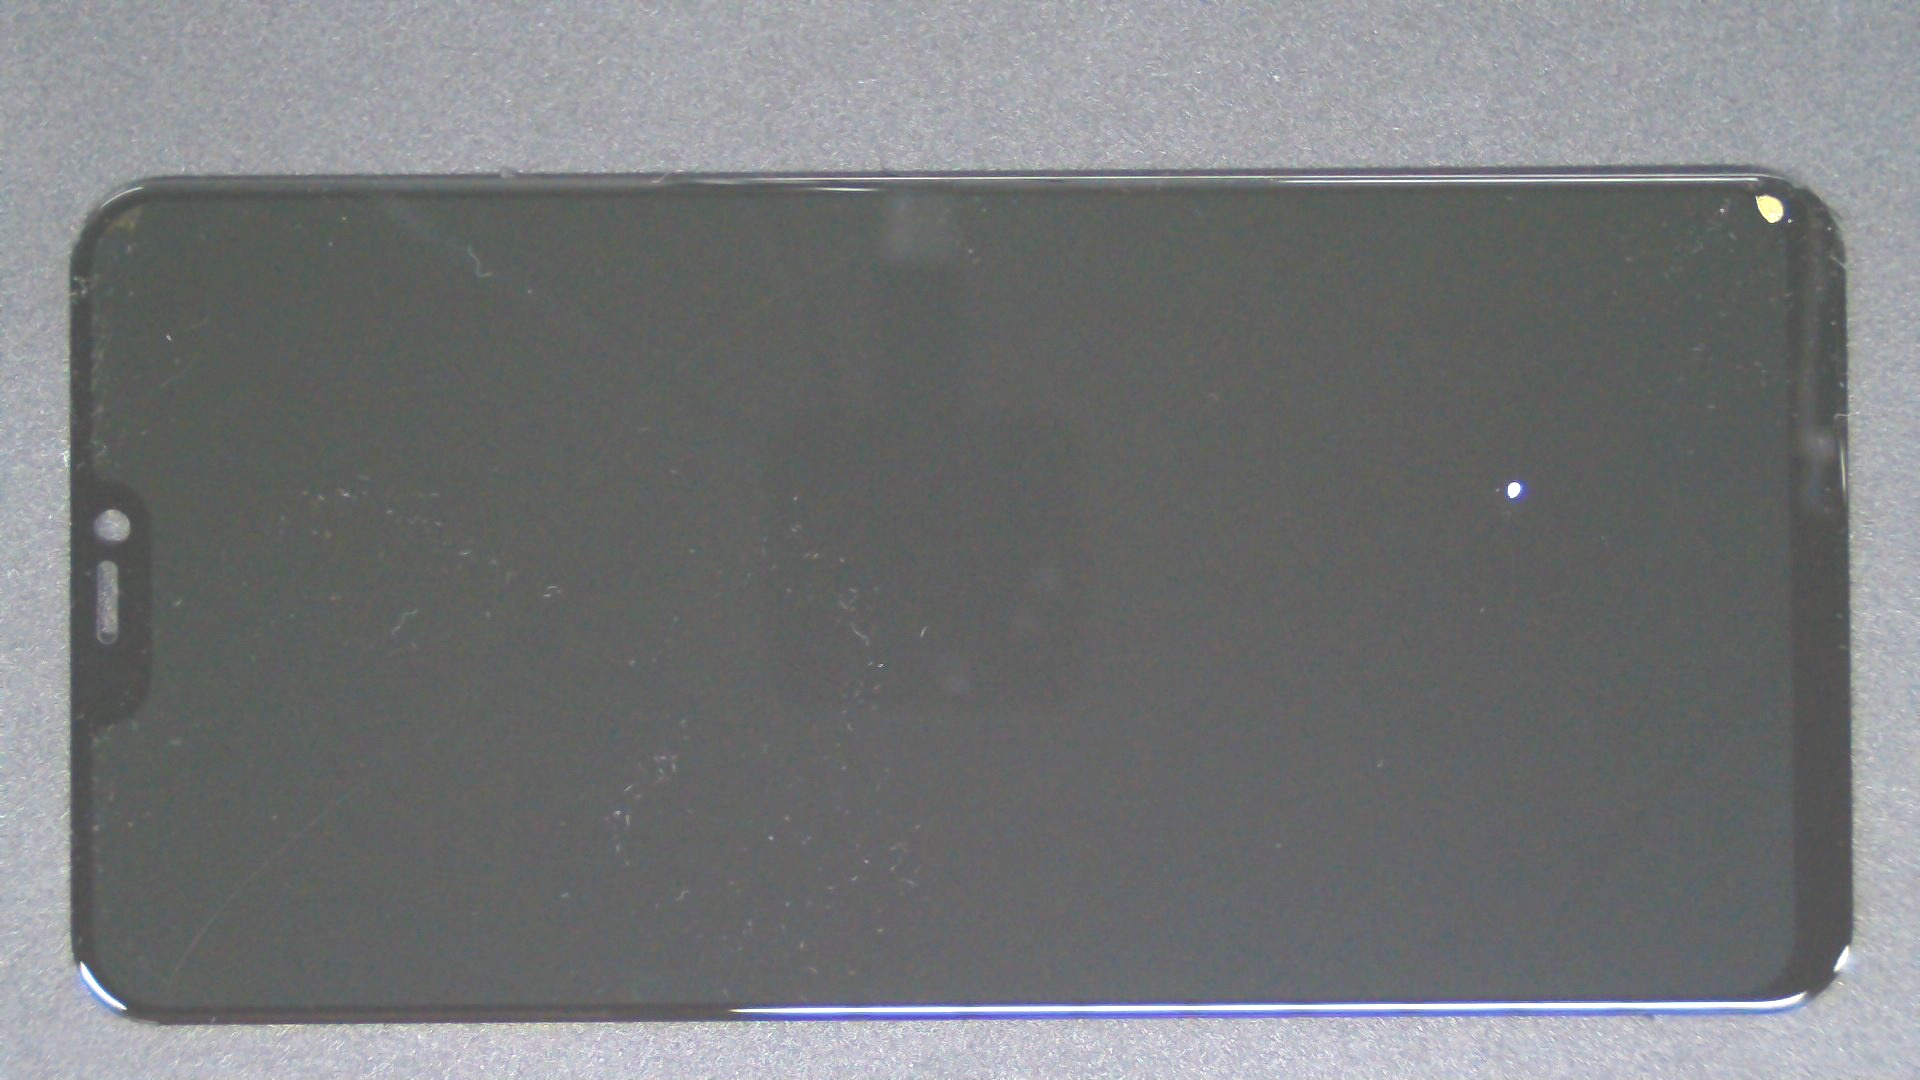oil: (758, 240, 1920, 720), (884, 95, 1920, 287)
